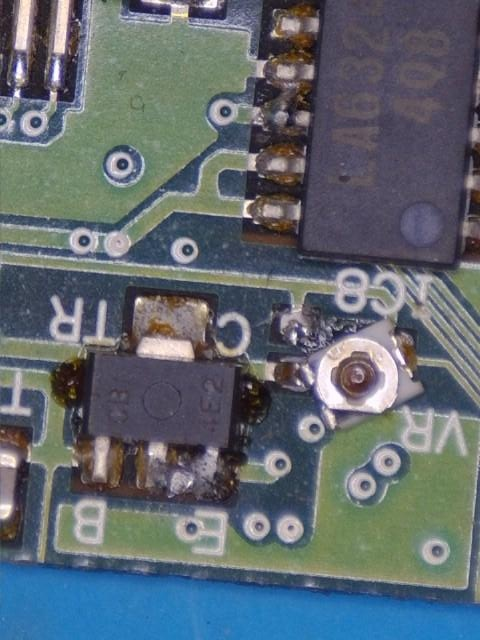pcb_defect: (265, 311, 426, 431), (137, 440, 235, 501), (254, 50, 315, 135)
